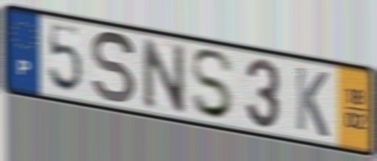3: (242, 56, 282, 132)
5: (45, 20, 86, 96)
K: (293, 63, 331, 141)
N: (139, 35, 189, 116)
S: (90, 28, 139, 107), (189, 47, 237, 122)
